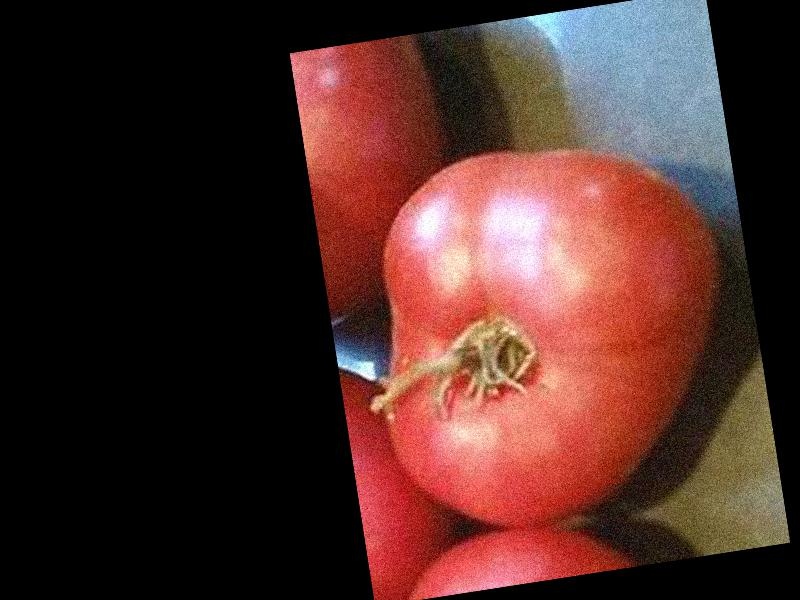Tomato: (349, 121, 751, 542)
